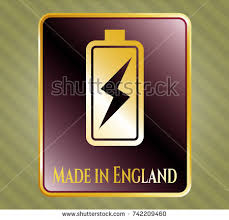charging sign: (76, 22, 158, 151)
